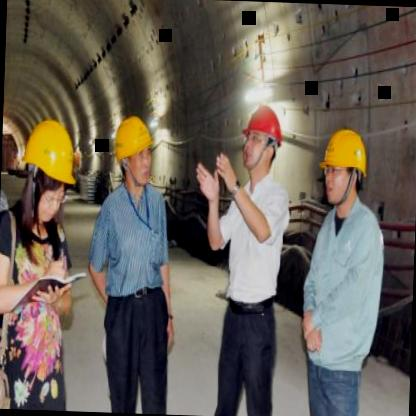helmet: (18, 119, 79, 222), (315, 124, 370, 208), (238, 99, 288, 182), (110, 113, 156, 187)
